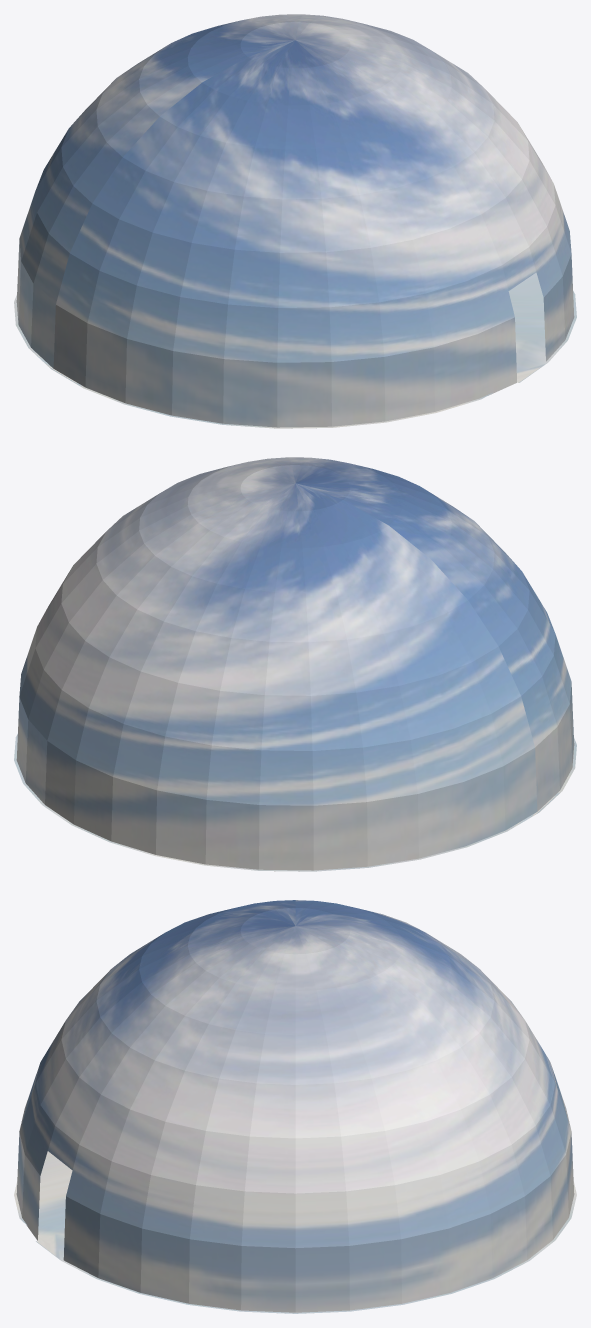
Rendered from skty.gltf.
The picture shows the model from 3 angles, top to bottom: view 1: azimuth 30°, elevation 25°; view 2: azimuth 150°, elevation 25°; view 3: azimuth 270°, elevation 25°; orthographic projection.
Visible parts, largest first — view 1: Sphere; view 2: Sphere; view 3: Sphere.
Part boxes in pixels (x1,y1,x2,y2): Sphere: (14,14,576,428); Sphere: (14,457,576,871); Sphere: (14,900,576,1313).
Bounding box in the file's own units: 49.98 × 26.44 × 49.98.
1 material, 1 textured.
